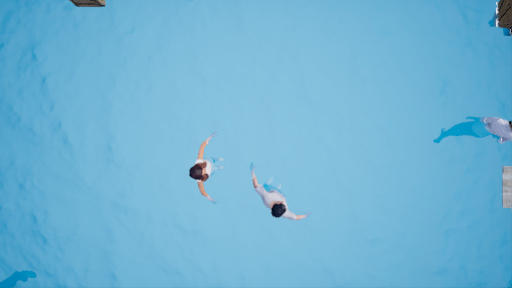person: (245, 166, 309, 224), (183, 129, 231, 203), (432, 112, 512, 151)
